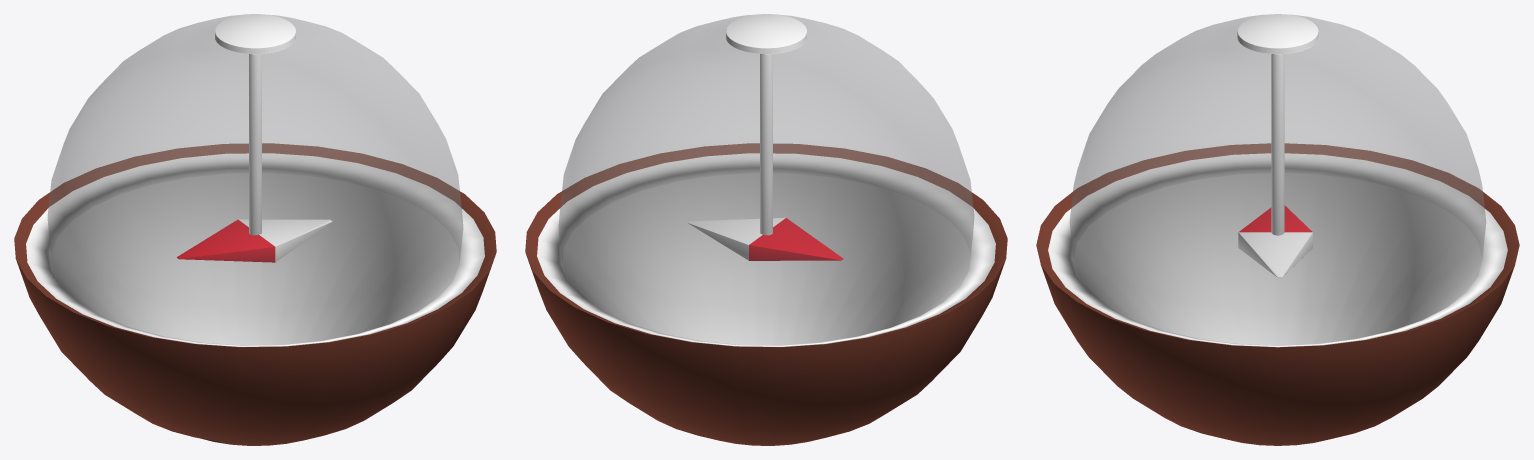
The model's file is Coco Pose.fbx.
3 views of the same model, side by side, from view 1: azimuth 30°, elevation 25°; view 2: azimuth 150°, elevation 25°; view 3: azimuth 270°, elevation 25° (orthographic).
Visible parts, largest first — view 1: Coco pose; view 2: Coco pose; view 3: Coco pose.
Part boxes in pixels (x1,y1,x2,y2): Coco pose: (14,14,496,445); Coco pose: (525,14,1007,445); Coco pose: (1036,14,1519,445).
Bounding box in the file's own units: 18.99 × 17.15 × 18.99.
